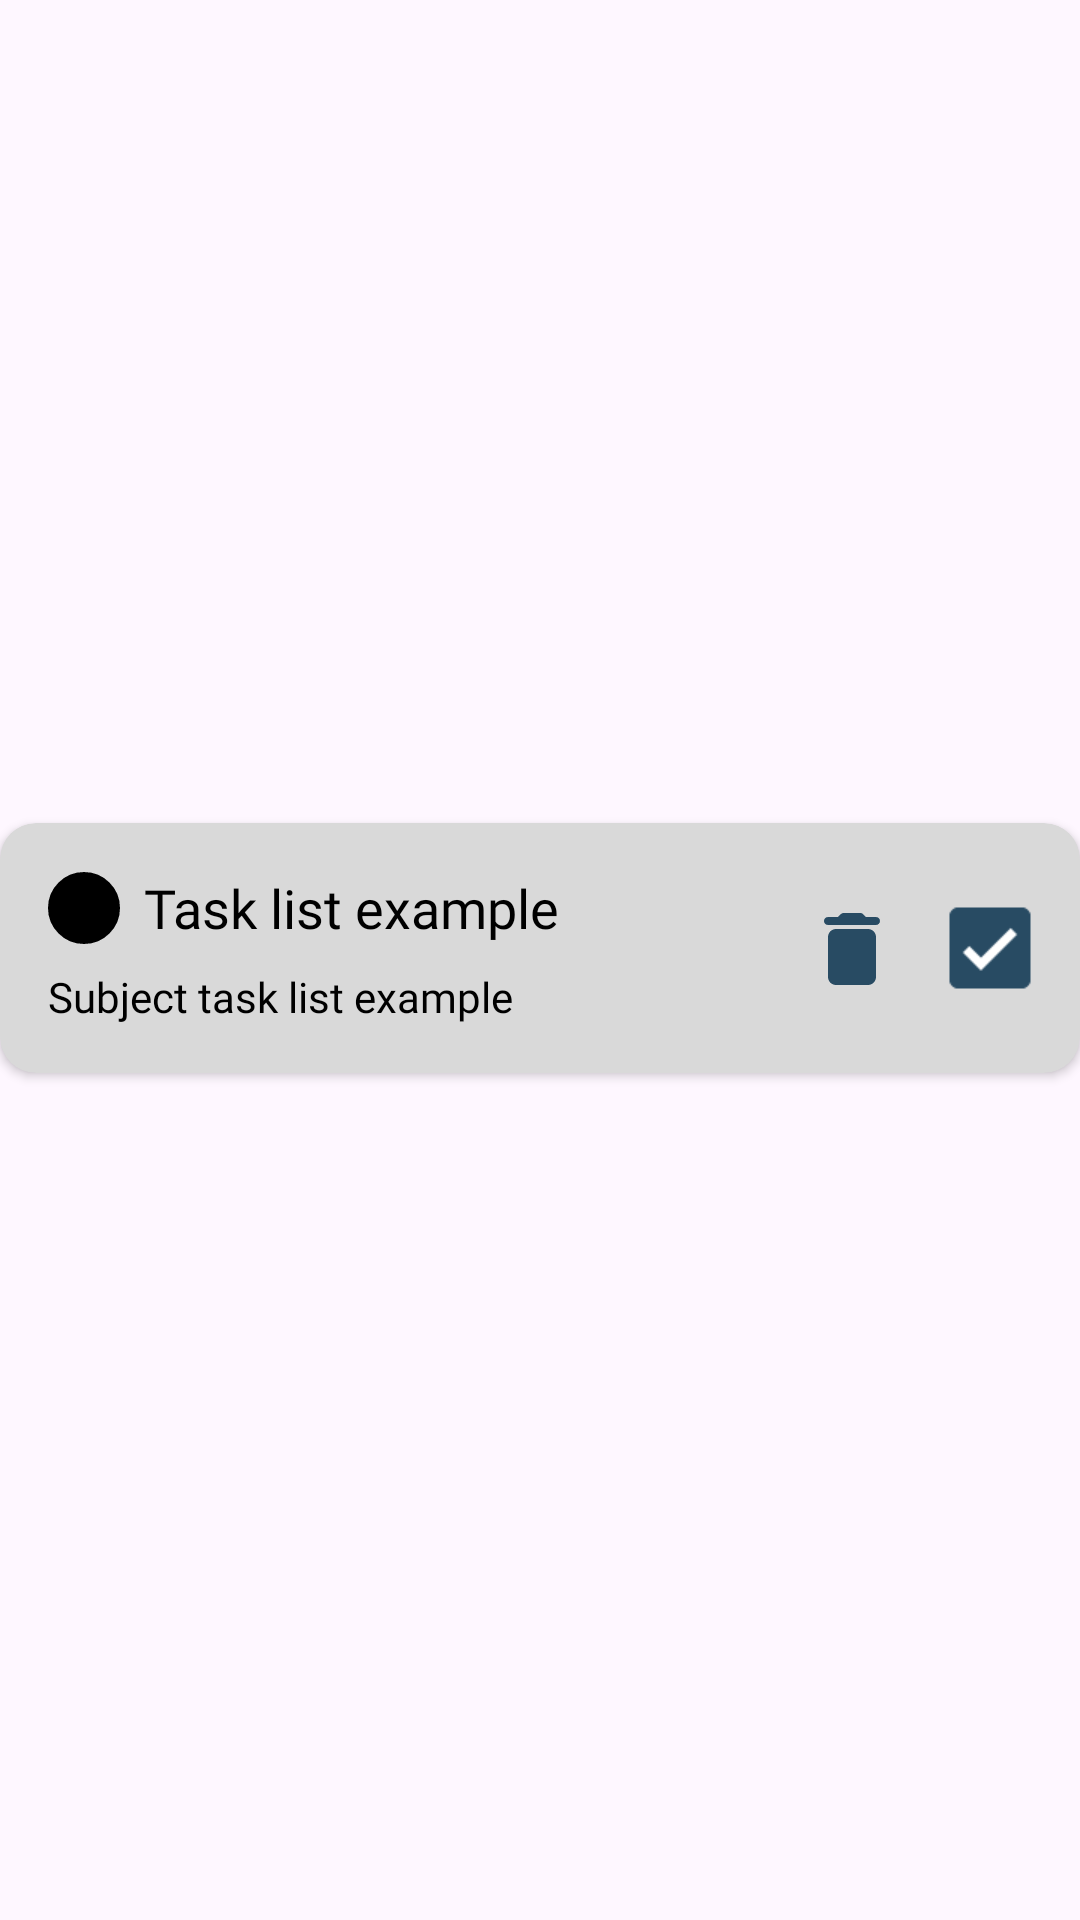

Icons on this 1080px x 1920px Android screen, each with the point to tap as (x=x, y=y):
trash: (x=852, y=949)
